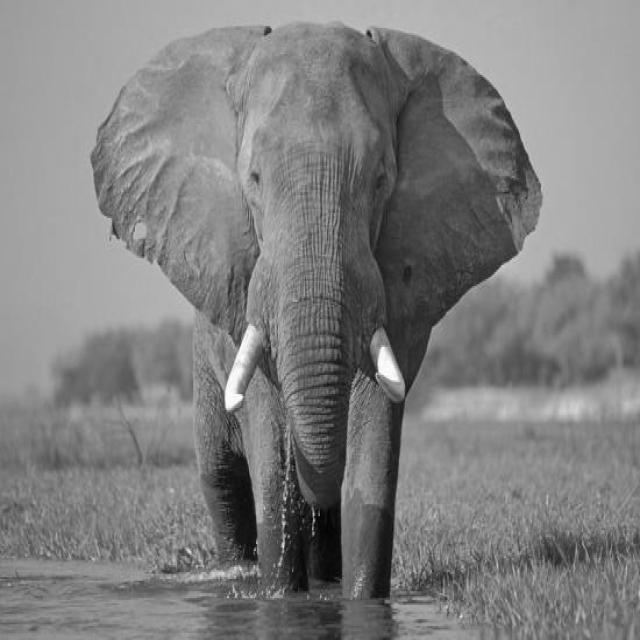Elephant: (90, 19, 542, 600)
